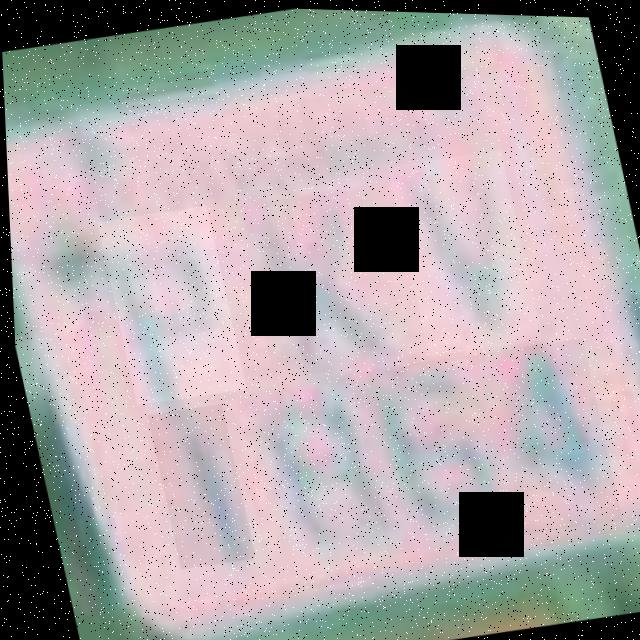1: (143, 401, 251, 570)
4: (461, 331, 618, 537)
5: (340, 353, 501, 552)
6: (343, 350, 500, 555)
8: (222, 367, 382, 562)
K: (233, 182, 395, 381)
P: (93, 202, 244, 407)
Y: (385, 144, 540, 356)
